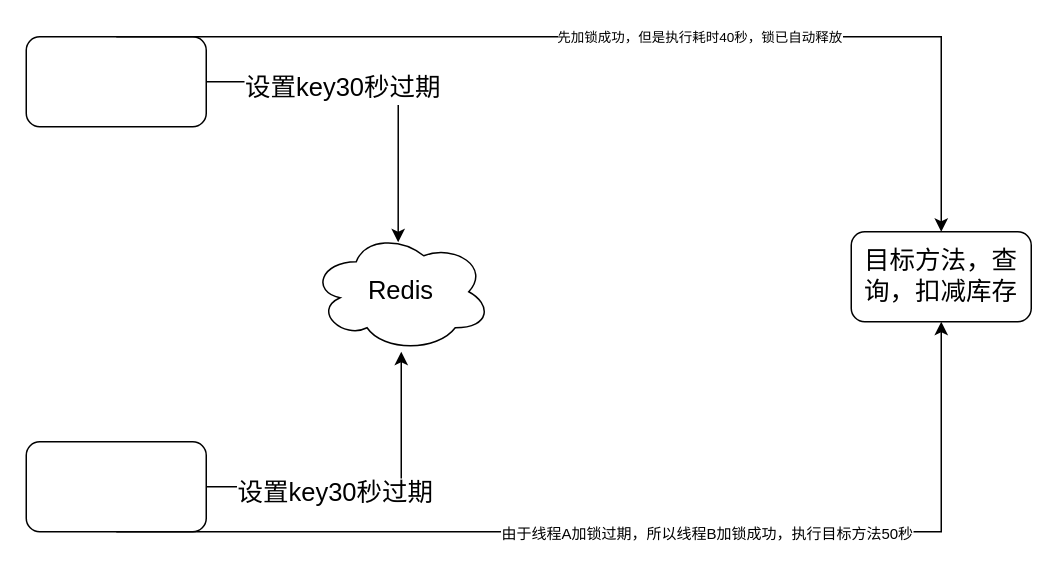
This 1058x570 diagram has some shape labels left out. The shapes that lost their labels are listed below. From the top down, each one's box as (x1, y1, x2, y2) in pixels, then its label:
(25, 35, 206, 127): 线程A
(25, 440, 206, 532): 线程B
